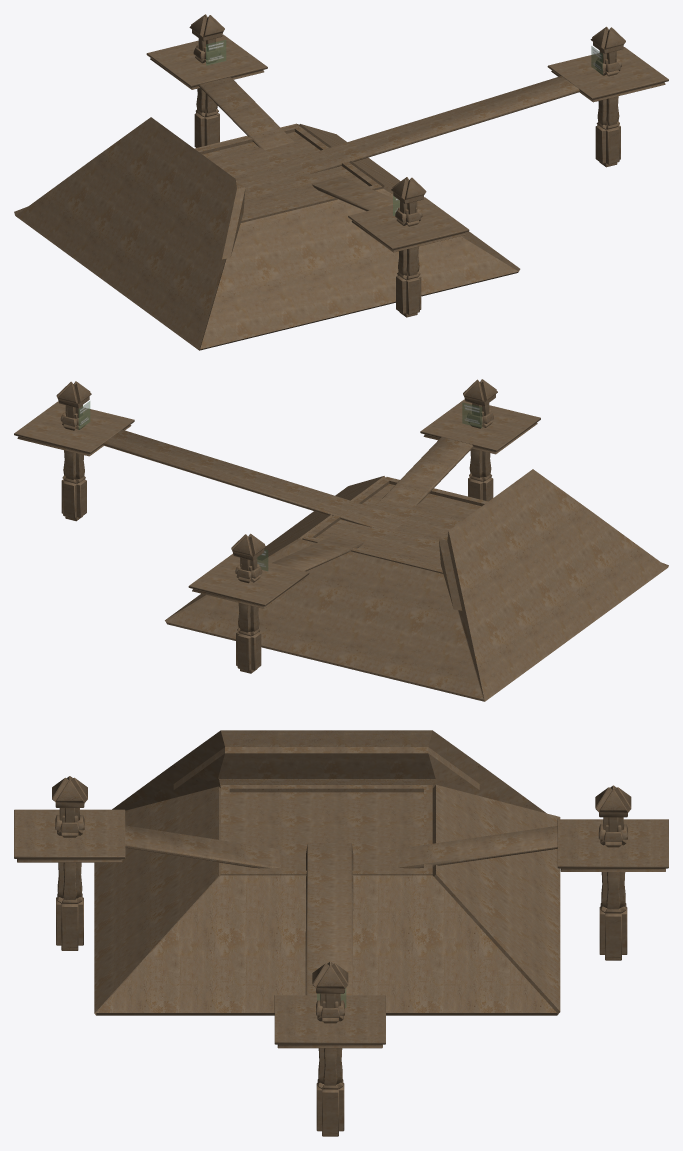
The model's file is landscape.glb.
3 renders of one model, top to bottom at view 1: azimuth 30°, elevation 25°; view 2: azimuth 150°, elevation 25°; view 3: azimuth 270°, elevation 25°, orthographic. The views are drawn at different scales.
Parts seen in each view (by area): view 1: Cube.003; view 2: Cube.003; view 3: Cube.003.
Boxes of the visible parts, <box> form: Cube.003: <box>14,14,668,350</box>; Cube.003: <box>14,379,668,701</box>; Cube.003: <box>14,730,668,1136</box>.
Size of the model in its own units: 318 by 76.15 by 266.
Materials: 2 (2 with a texture image).
